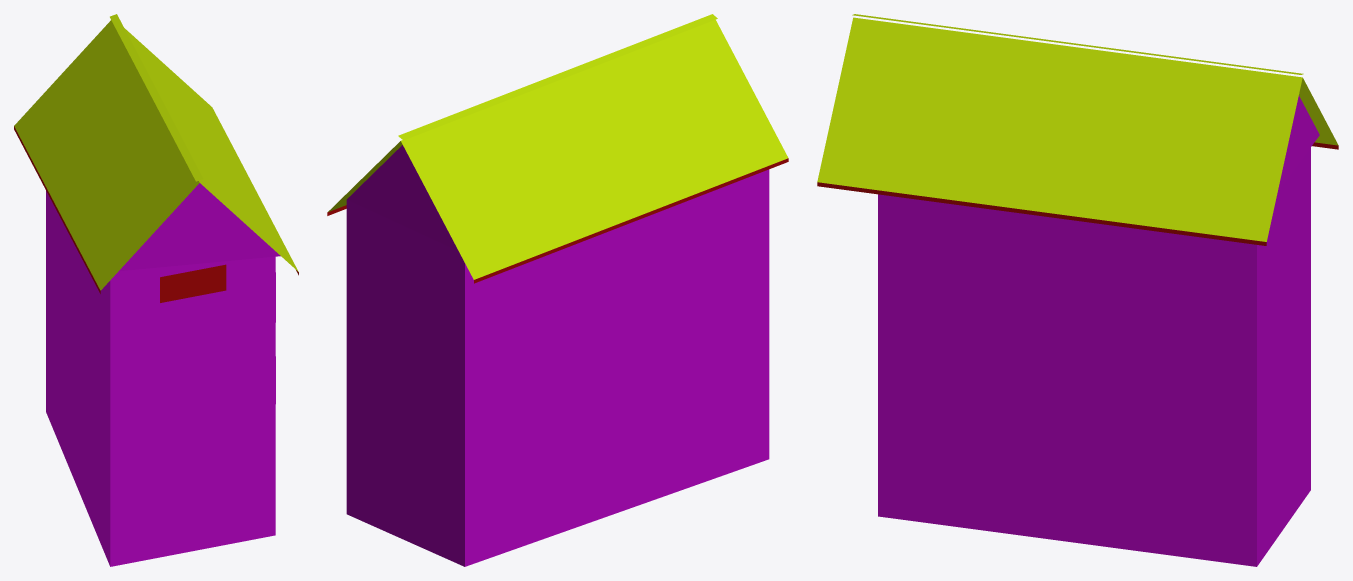
File: bgj_335.glb
3 renders of one model, left to right at view 1: azimuth 30°, elevation 25°; view 2: azimuth 150°, elevation 25°; view 3: azimuth 270°, elevation 25°, orthographic. The views are drawn at different scales.
Parts seen in each view (by area): view 1: bgj_335; view 2: bgj_335; view 3: bgj_335.
Part boxes in pixels (bbox=[...]): bgj_335: bbox=[14, 14, 298, 566]; bgj_335: bbox=[327, 14, 788, 566]; bgj_335: bbox=[817, 14, 1338, 566].
Size of the model in its own units: 9.88 by 13.35 by 13.92.
